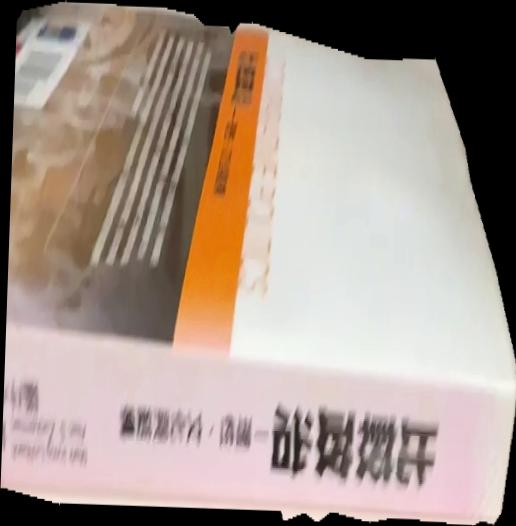flat: (1, 1, 516, 526)
